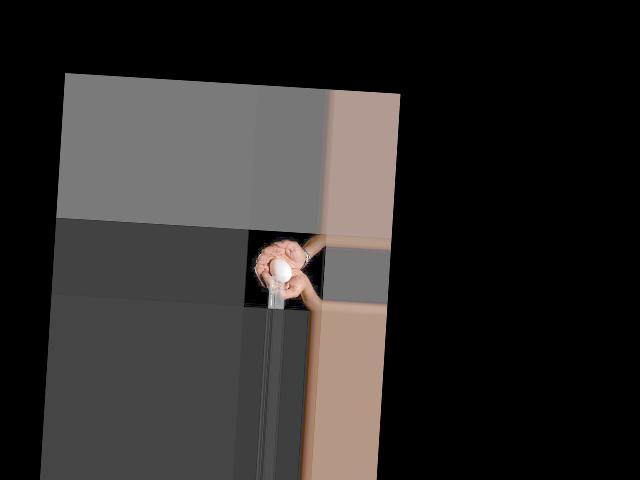egg: (268, 257, 292, 282)
